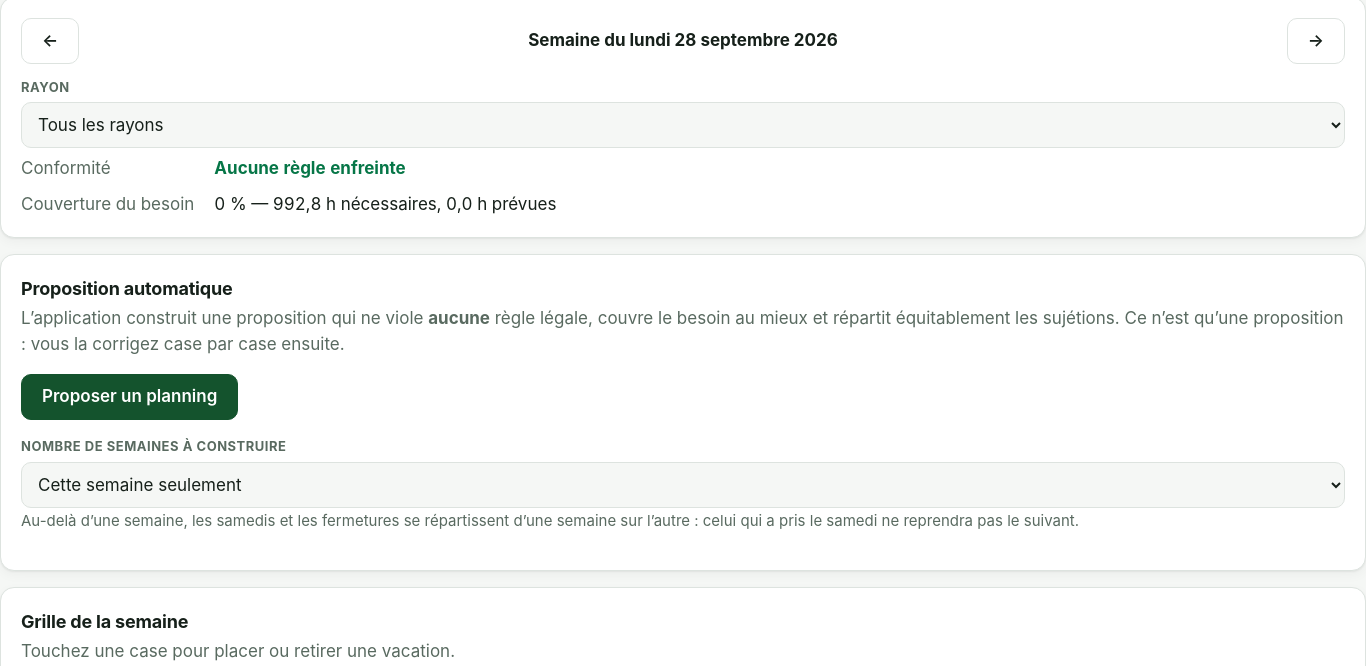
Test: vue tous rayons › signale un prêt dès qu’il y en a un
Select "Crèmerie / libre-service frais" in the dropdown labelled "Rayon": (683, 125) [21, 102, 1345, 148]
(page scrolled)
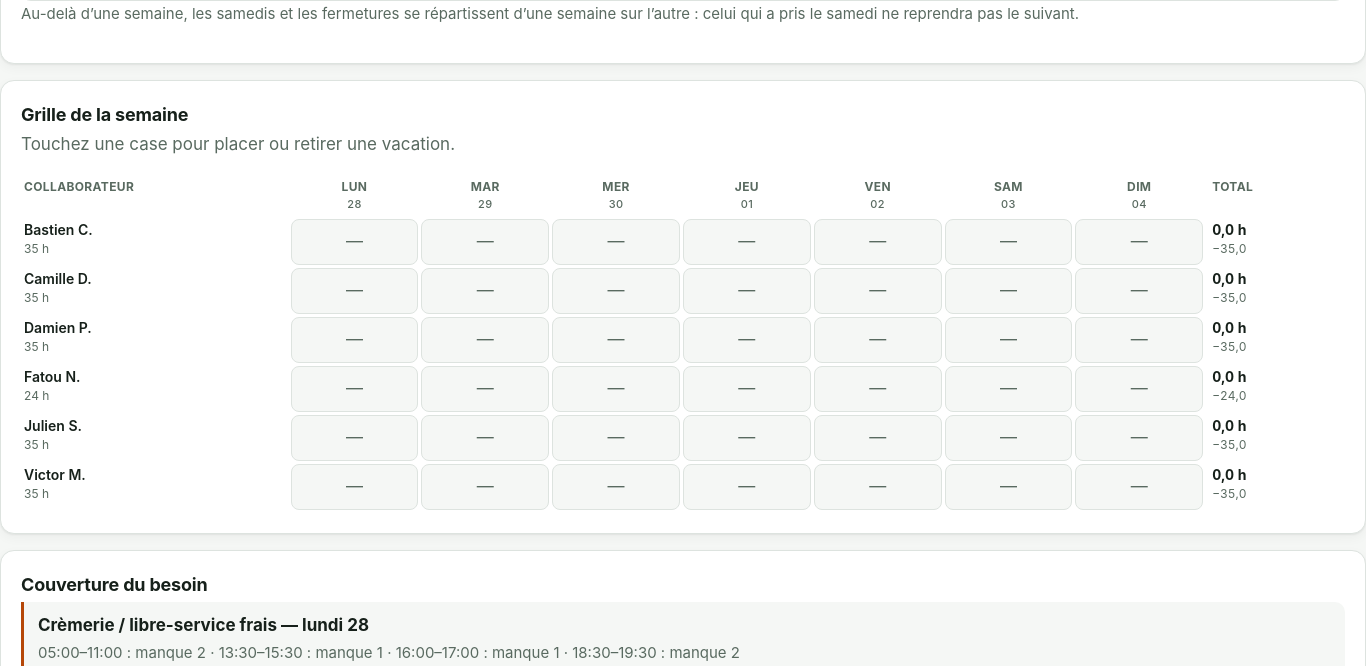
Click the button named "Camille D., lundi": (354, 291) [291, 268, 418, 314]
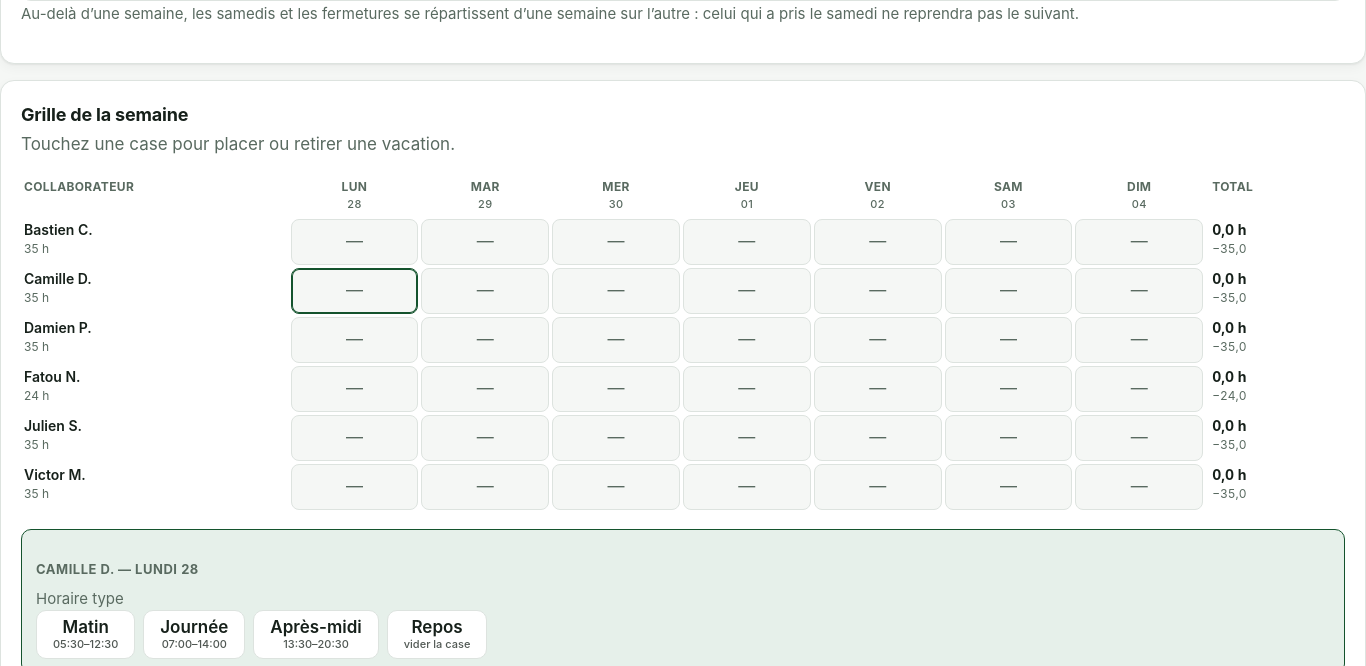
Click the button "Matin 05:30–12:30": (86, 634) [36, 610, 135, 659]
(page scrolled)
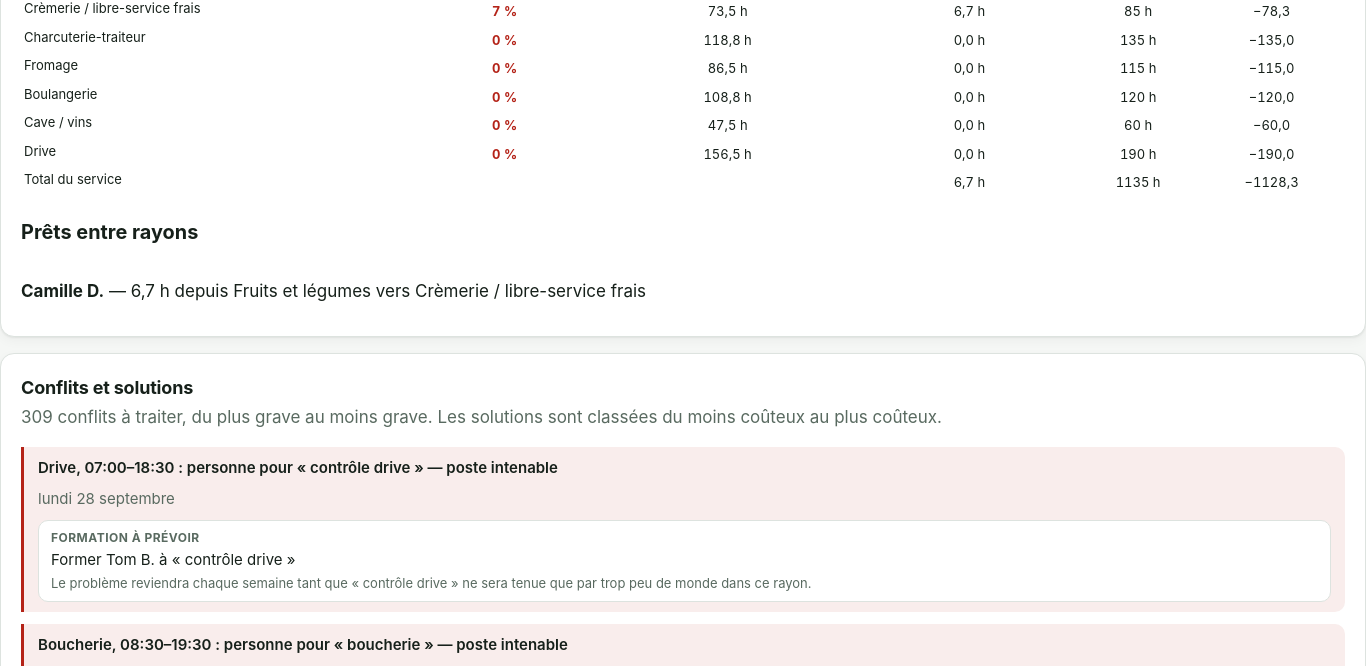
Now the text "Camille D." is shown, box [21, 281, 104, 301]
Now the list item "depuis Fruits et légumes vers Crèmerie" is shown, box [21, 281, 646, 301]
